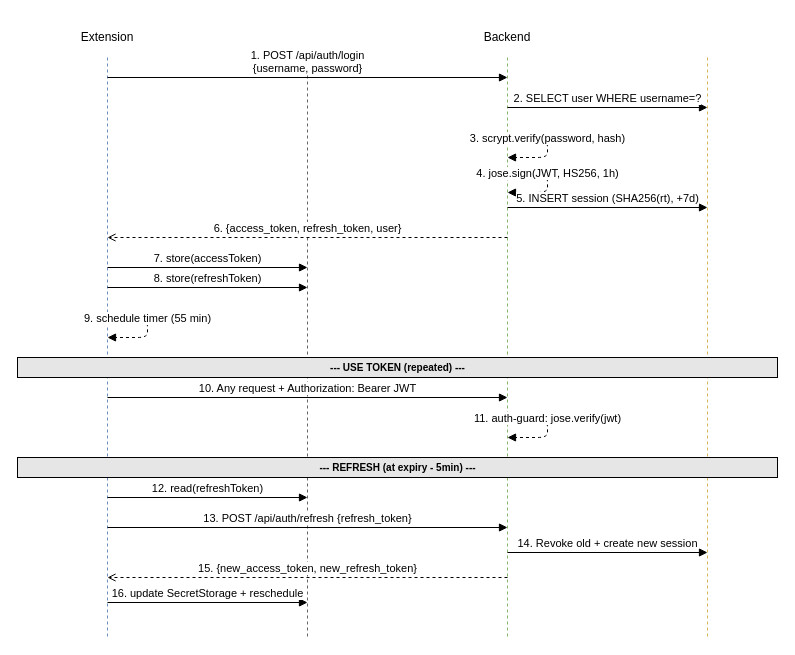
Image size: 795x655. Some labels were removed from this diagram. Each missing label, with the centre of its shape:
"SecretStorage" belongs at point 307,327.
"SQLite" belongs at point 707,327.
